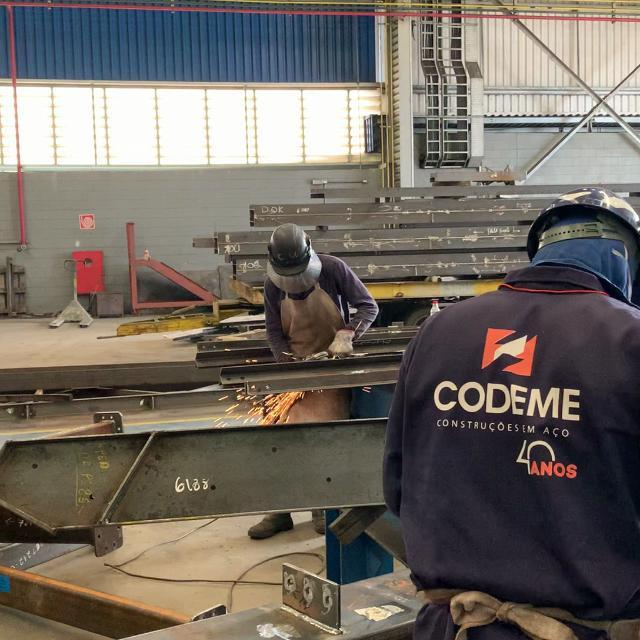eye-glass: (266, 244, 321, 295)
face-shield: (328, 329, 354, 356)
glove: (527, 186, 640, 283), (270, 222, 313, 274)
mask: (381, 187, 640, 628), (264, 222, 379, 360)
